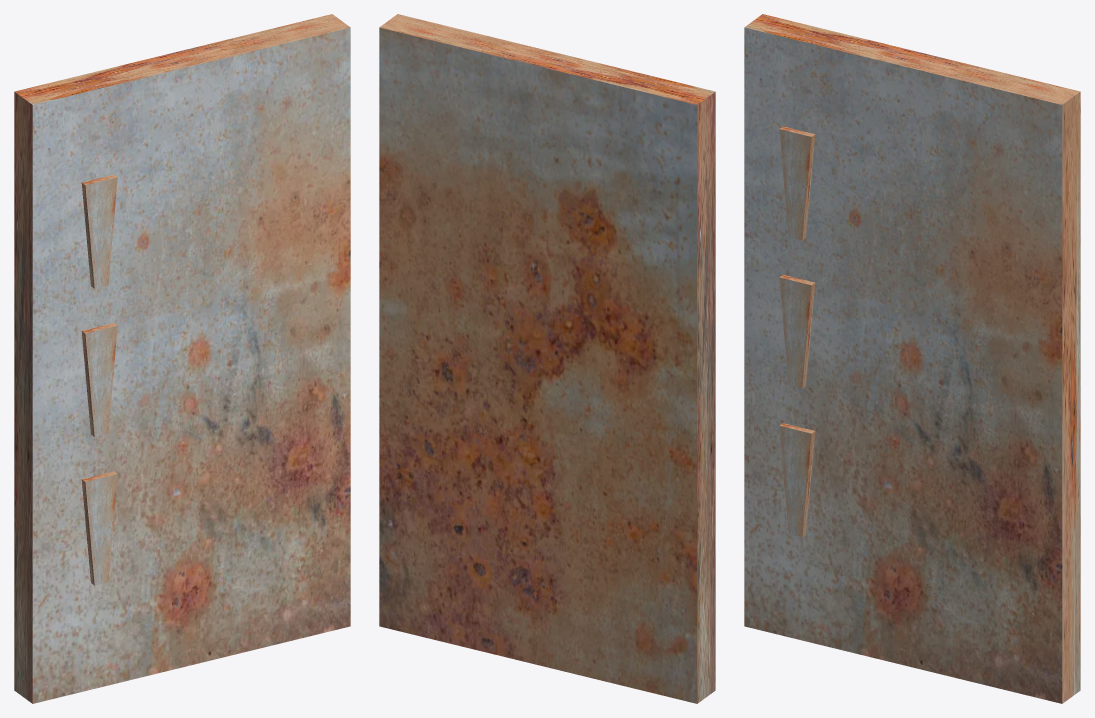
File: durvis.glb
3 renders of one model, left to right at view 1: azimuth 30°, elevation 25°; view 2: azimuth 150°, elevation 25°; view 3: azimuth 330°, elevation 25°, orthographic.
Parts seen in each view (by area): view 1: Cube, Cylinder; view 2: Cube; view 3: Cube, Cylinder.
Boxes of the visible parts, bbox=[...] form: Cube: bbox=[14, 14, 350, 703]; Cylinder: bbox=[81, 174, 117, 585]; Cube: bbox=[379, 14, 715, 703]; Cube: bbox=[744, 14, 1080, 703]; Cylinder: bbox=[779, 126, 815, 537].
Size of the model in its own units: 1 by 1.8 by 0.1481.
1 material, 1 textured.
